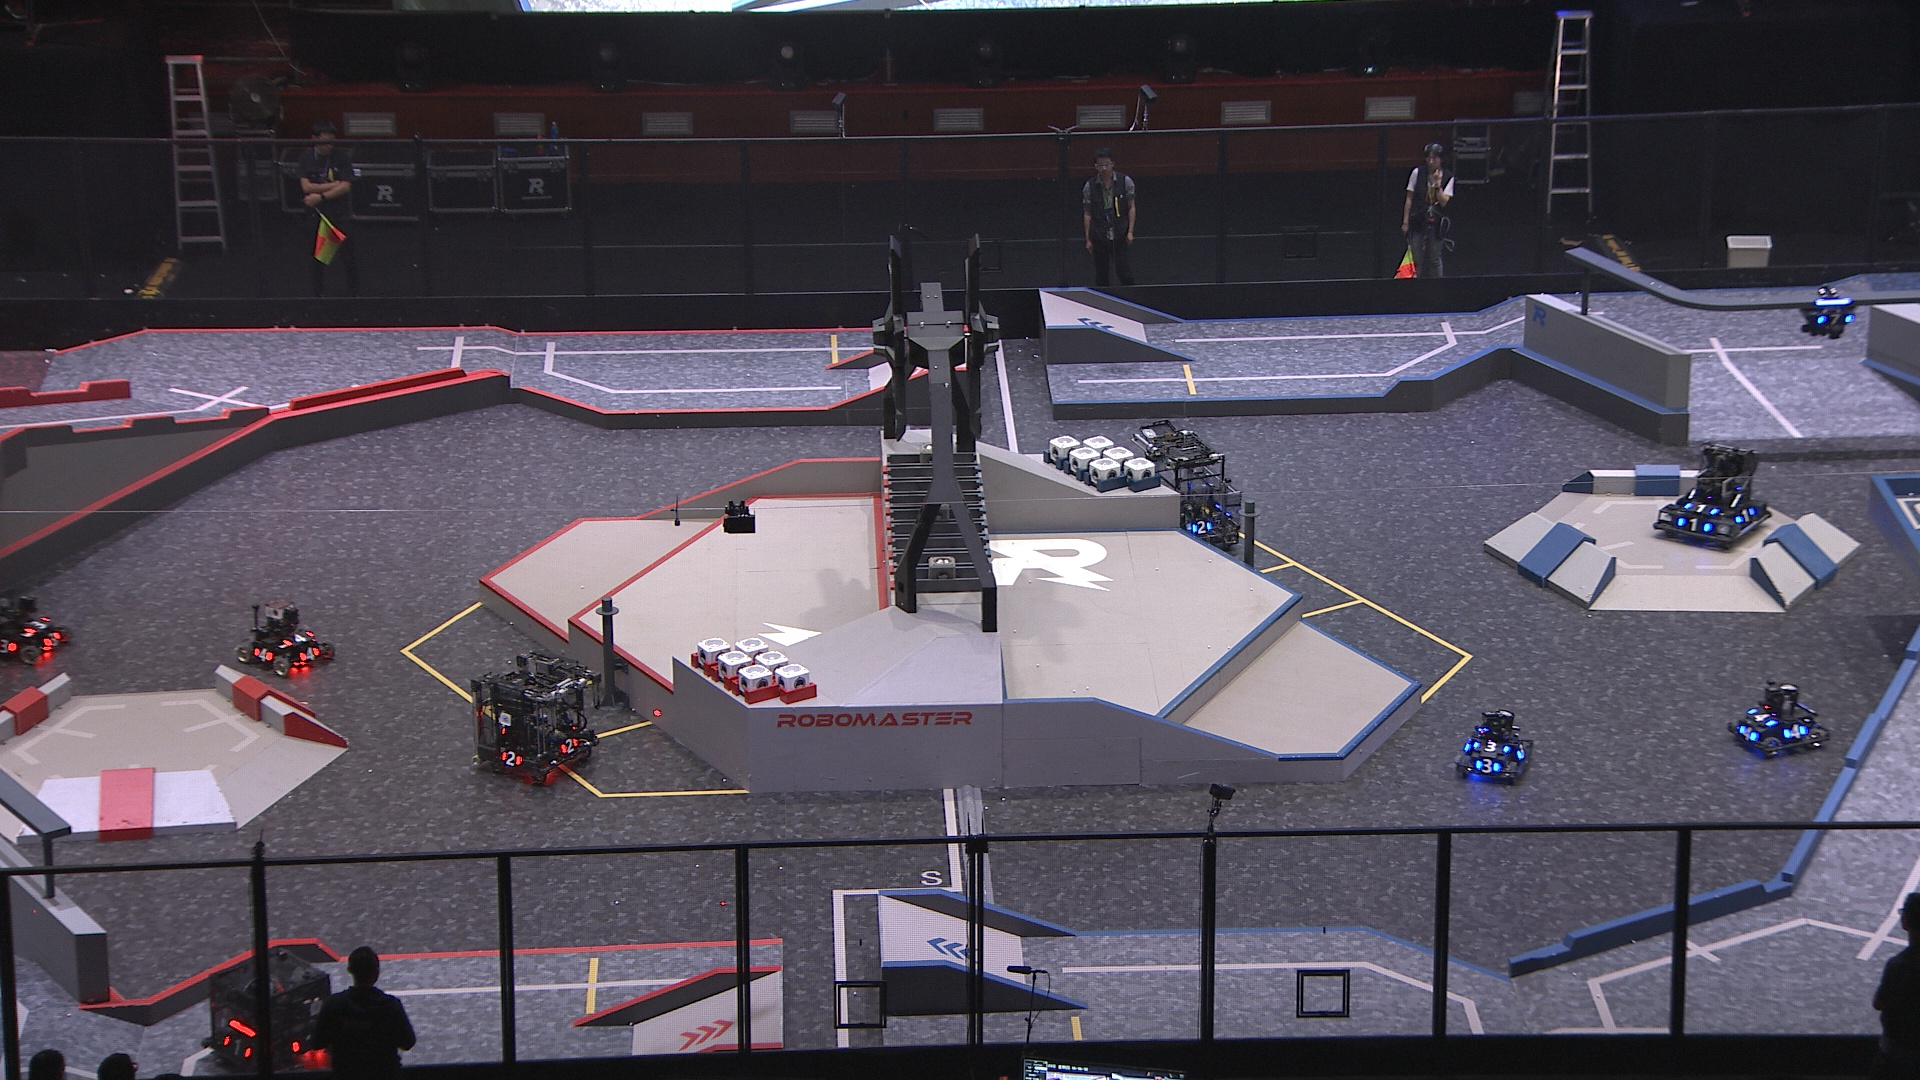armor: (1816, 309, 1854, 327), (1681, 498, 1717, 517), (225, 1033, 251, 1058), (1679, 516, 1709, 534), (1750, 705, 1776, 727), (1472, 737, 1509, 752), (285, 628, 313, 646), (26, 613, 53, 632), (297, 645, 320, 665), (558, 737, 580, 757), (498, 752, 524, 769), (41, 629, 65, 646), (1782, 723, 1807, 738), (1476, 757, 1501, 773), (1737, 725, 1756, 744), (1735, 508, 1755, 524), (1191, 518, 1211, 534), (0, 637, 17, 651), (253, 647, 272, 661), (1516, 741, 1528, 761)
car: (465, 650, 597, 789), (1131, 414, 1240, 559), (204, 949, 332, 1065), (1655, 439, 1768, 556), (228, 599, 332, 679), (1727, 680, 1830, 757), (1453, 712, 1536, 785)
watcher: (1797, 281, 1859, 339)
